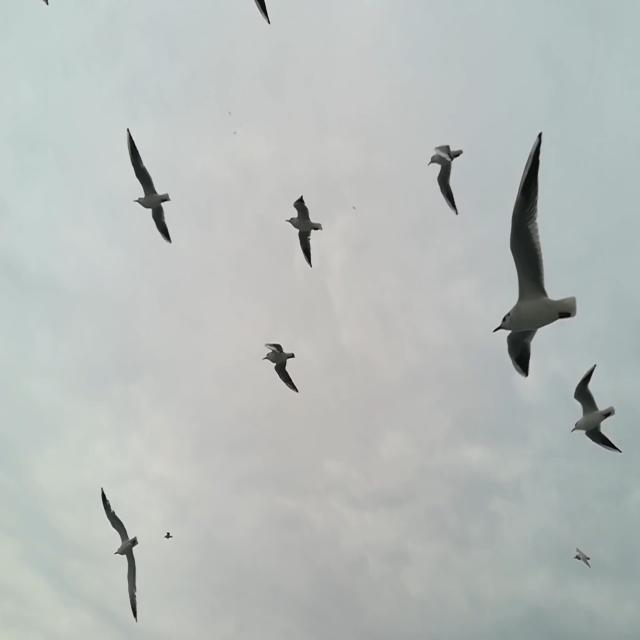bird: (493, 130, 578, 376), (100, 486, 141, 624), (127, 127, 173, 242), (571, 362, 624, 454), (426, 143, 462, 218), (286, 195, 322, 269), (262, 341, 299, 393), (200, 0, 271, 27), (572, 544, 594, 572), (163, 529, 175, 541), (41, 0, 51, 7)
